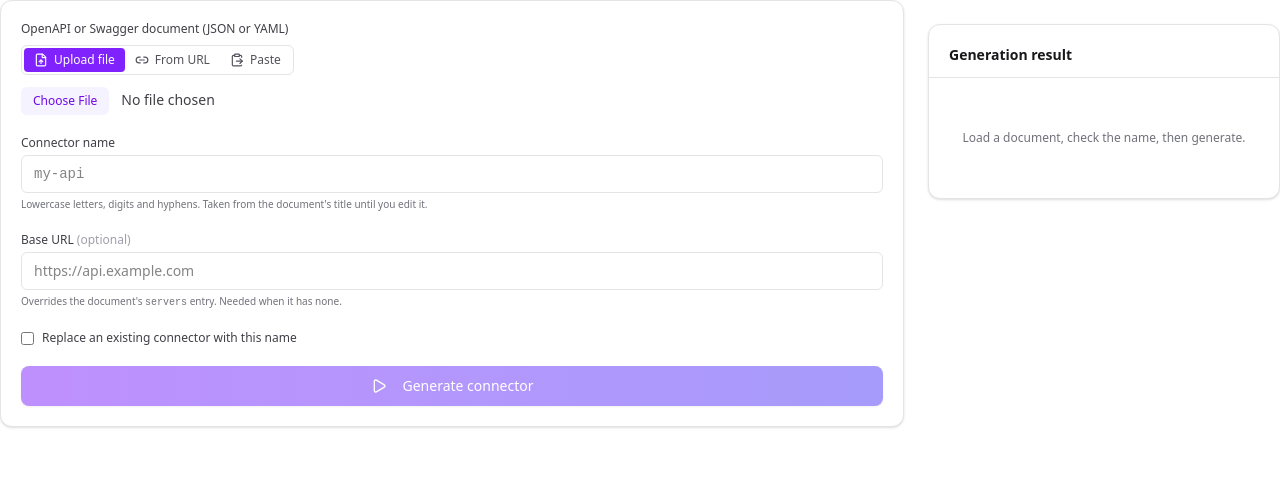
Test case: SpecUploadFlow › fetches a URL in the browser without credentials and sends the text, never the URL
The image size is (1280, 483).
Click the tab with test id "spec-source-url" at (172, 60), box x1=125 y1=48 x2=220 y2=72
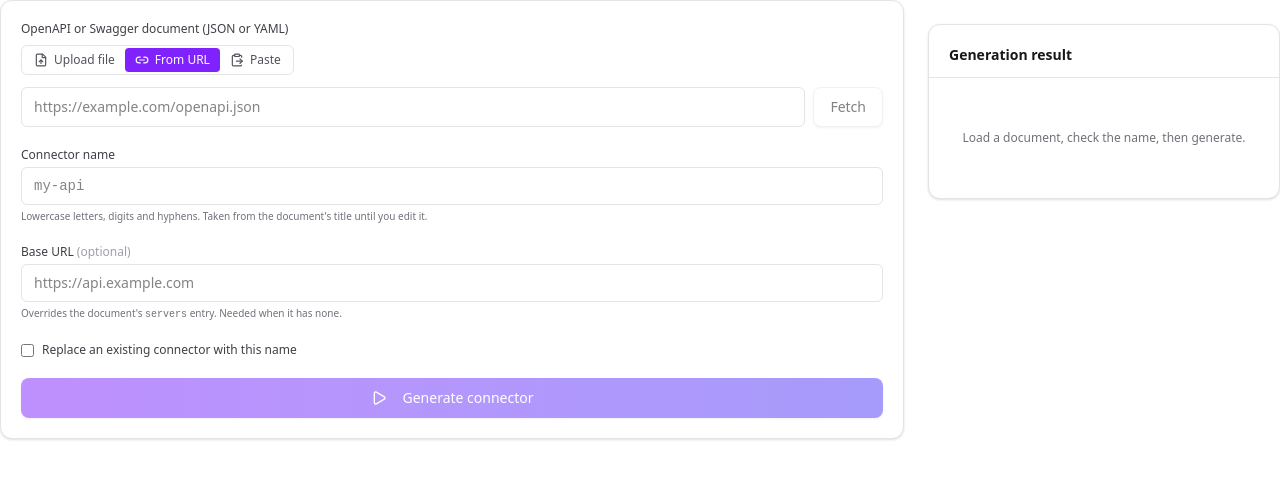
Type "https://petstore.example.com/openapi.yaml" into the field with test id "spec-url-input" at (413, 107), box x1=21 y1=87 x2=805 y2=127
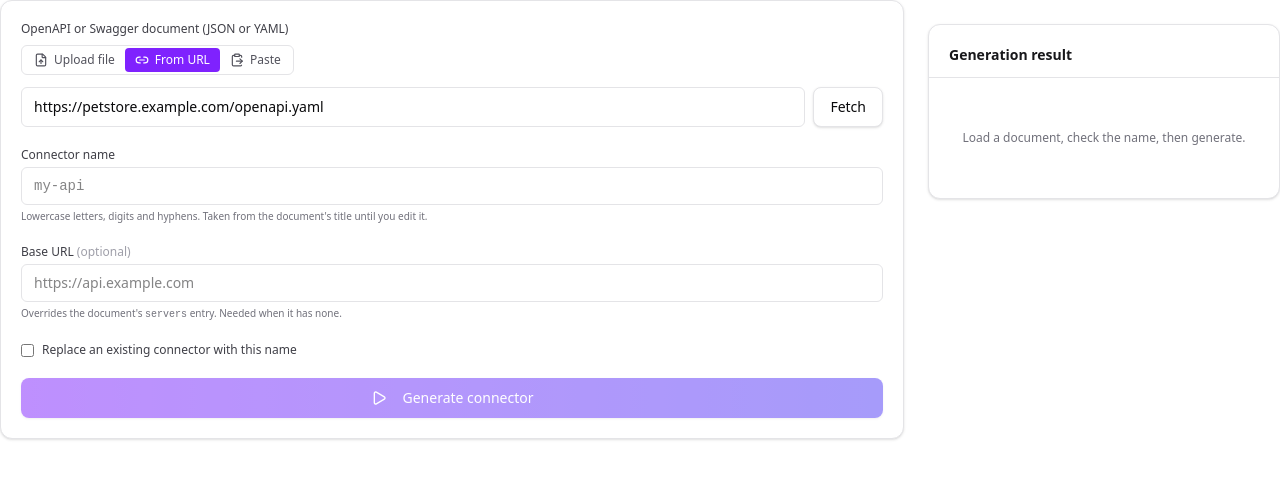
Click the button with test id "spec-url-fetch" at (848, 107), box x1=813 y1=87 x2=883 y2=127
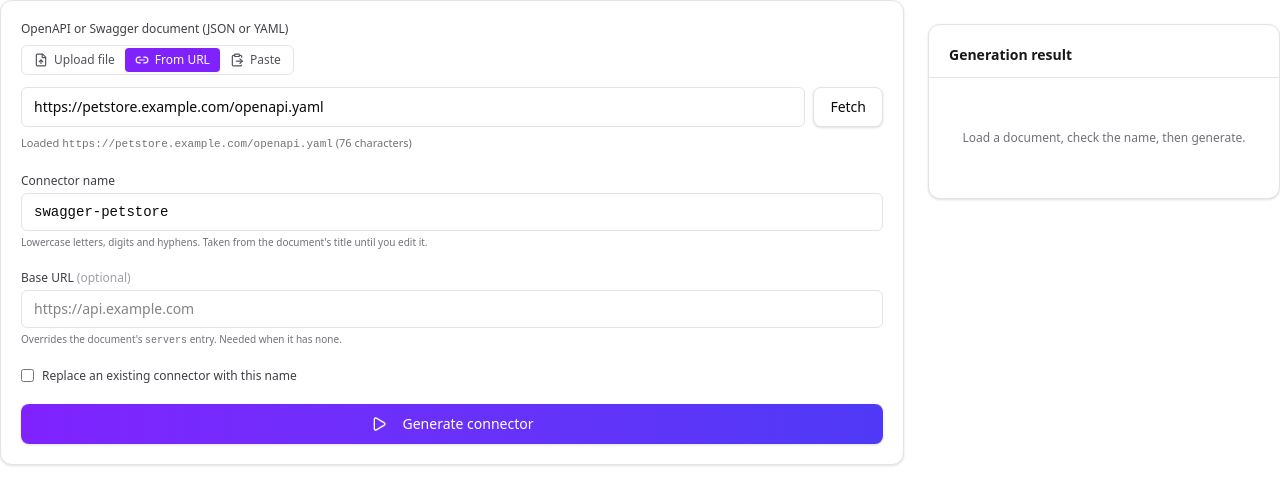
Result: the element with test id "spec-loaded" is shown at x1=21 y1=135 x2=412 y2=150
Result: the field labelled "Connector name" holds "swagger-petstore" at x1=21 y1=192 x2=883 y2=230
Click the button with test id "spec-generate" at (452, 424), box x1=21 y1=404 x2=883 y2=444
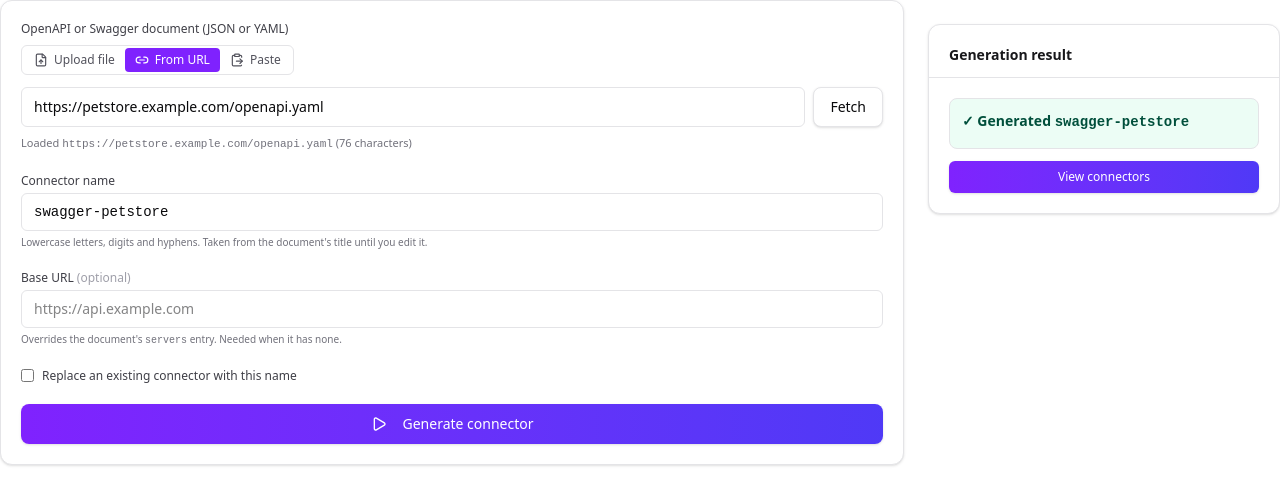
Result: the element with test id "spec-result-success" is shown at x1=949 y1=98 x2=1259 y2=193
